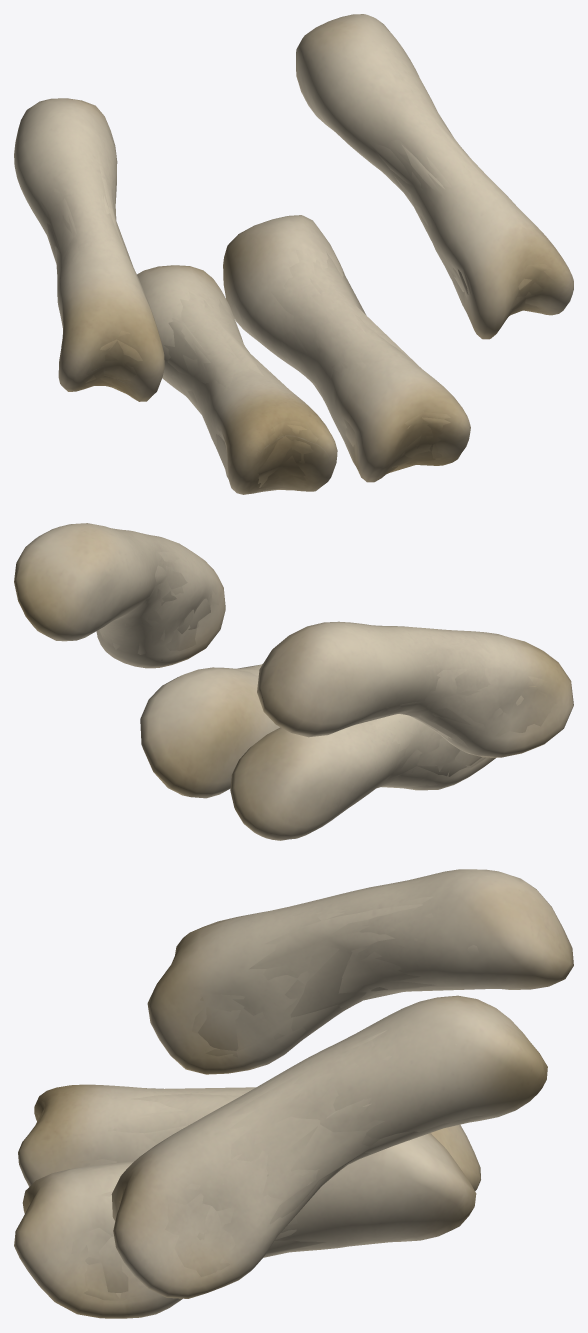
File: BR 1st Phalanx.fbx
3 views of the same model, one above another, from view 1: azimuth 30°, elevation 25°; view 2: azimuth 150°, elevation 25°; view 3: azimuth 270°, elevation 25° (orthographic). The views are drawn at different scales.
Visible parts, largest first — view 1: BR 1st Phalanx high, BR 1st Phalanx, BR 1st Phalanx low; view 2: BR 1st Phalanx high, BR 1st Phalanx, BR 1st Phalanx low; view 3: BR 1st Phalanx high, BR 1st Phalanx, BR 1st Phalanx low.
Part boxes in pixels (x1,y1,x2,y2): BR 1st Phalanx high: [14, 14, 573, 494]; BR 1st Phalanx: [41, 67, 556, 491]; BR 1st Phalanx low: [46, 61, 534, 489]; BR 1st Phalanx high: [14, 523, 573, 840]; BR 1st Phalanx: [95, 528, 558, 807]; BR 1st Phalanx low: [118, 551, 536, 788]; BR 1st Phalanx high: [14, 869, 573, 1318]; BR 1st Phalanx: [27, 880, 490, 1300]; BR 1st Phalanx low: [28, 904, 486, 1292].
Bounding box in the file's own units: 6.82 × 4.28 × 5.9.
